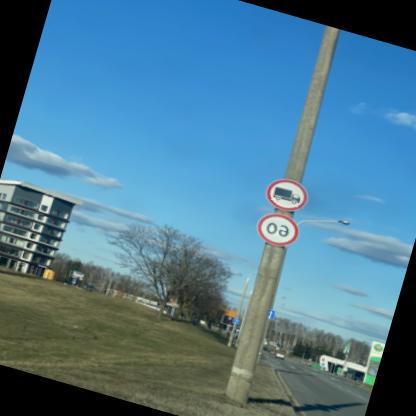speedlimit: (258, 209, 306, 250)
